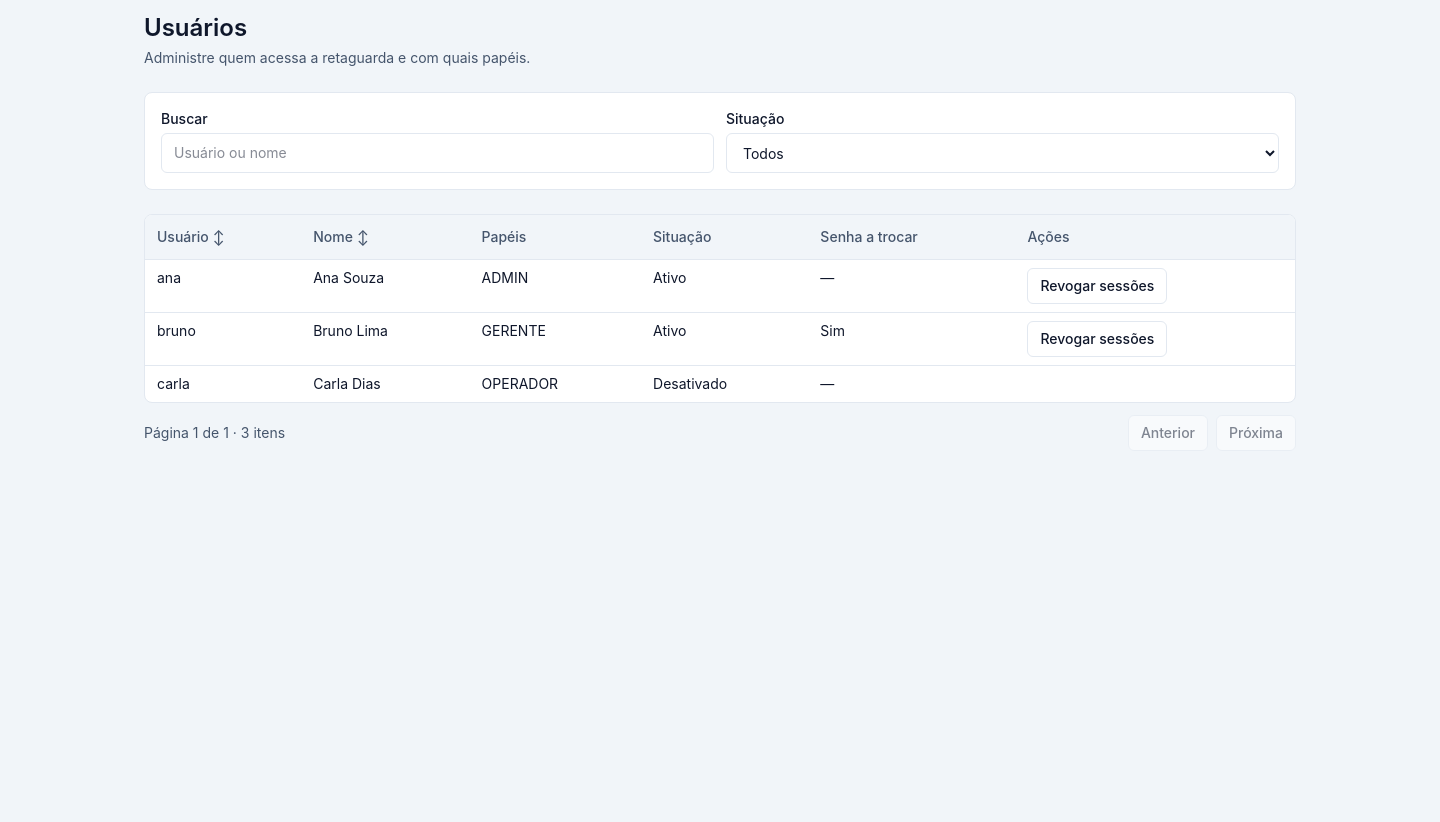
Test: UsersPage — senha e sessões › revoga as sessões (204) e avisa no toast
Expected: the cell "ana" is shown, [145, 260, 301, 312]
Click the button with aria-label "Revogar sessões de ana".
click(1097, 286)  # box [1027, 268, 1167, 304]
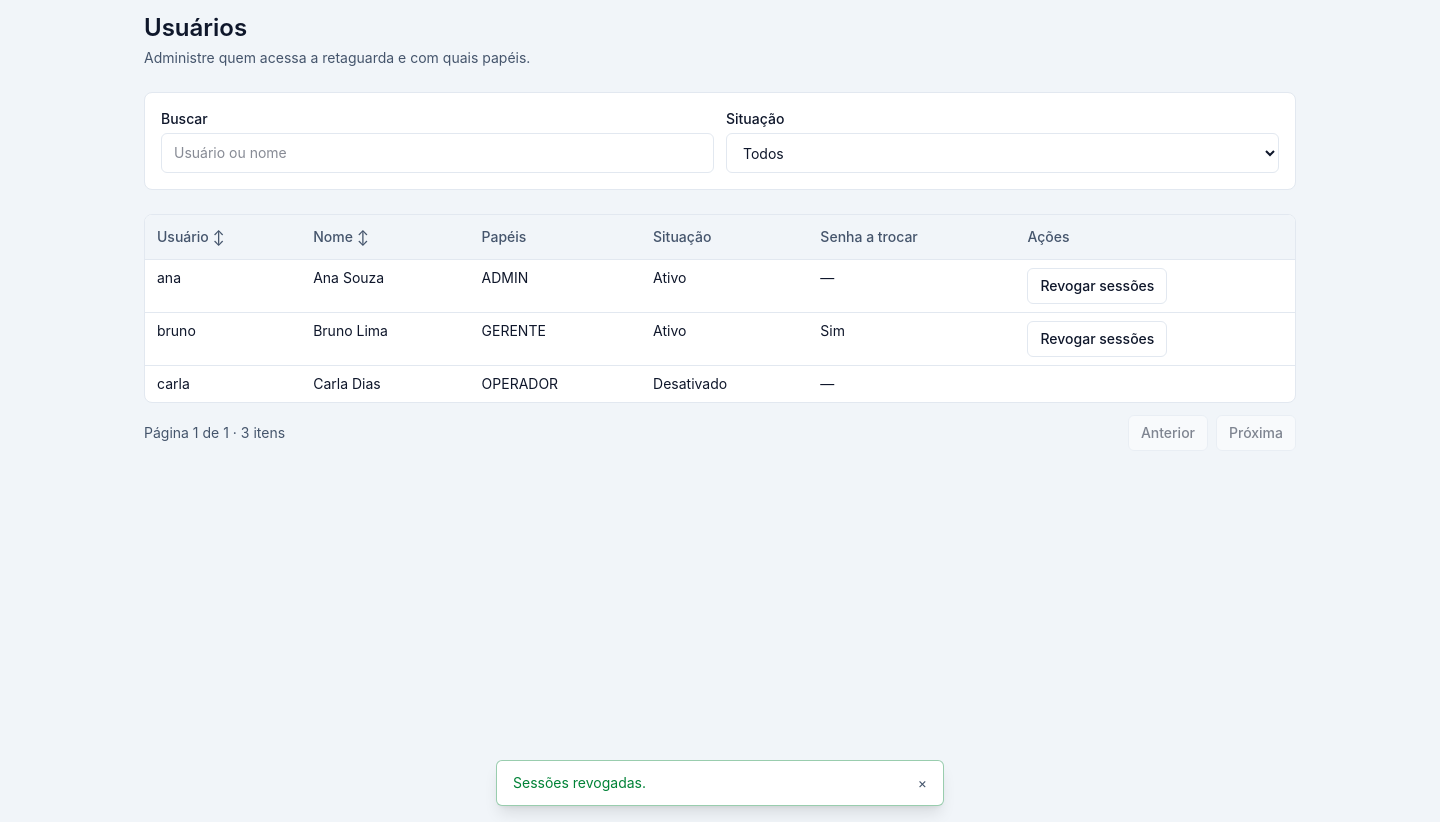
Now the text "Sessões revogadas." is shown, box [513, 774, 646, 791]
